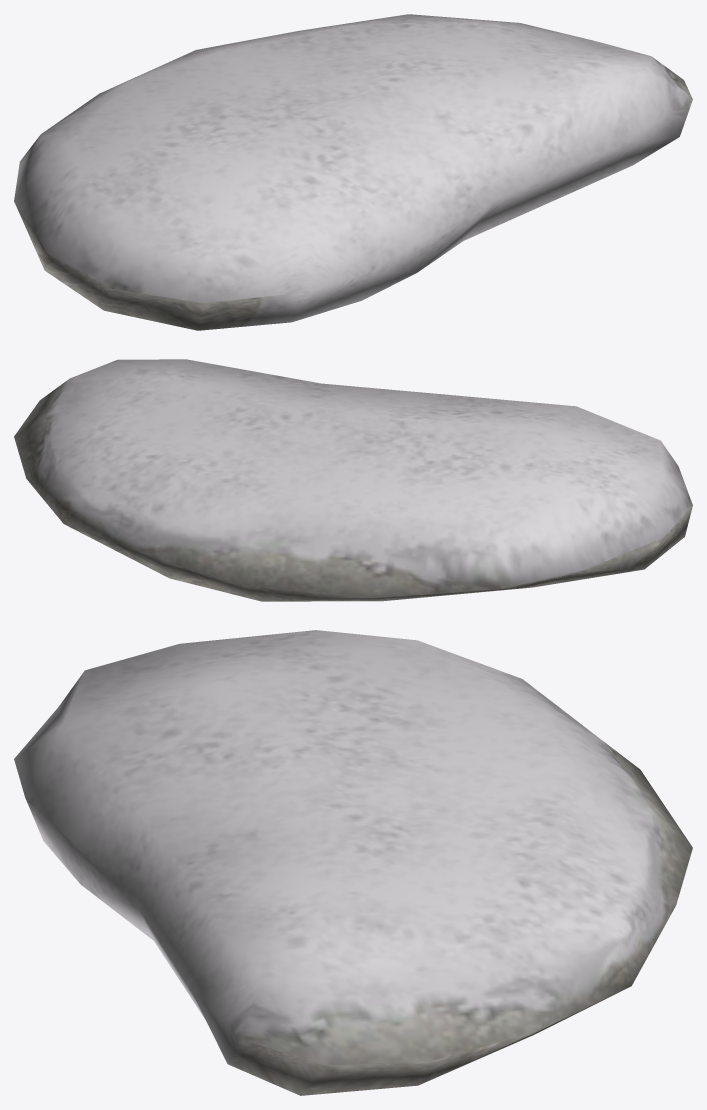
The model's file is general_obj_stone14.glb.
The picture shows the model from 3 angles, top to bottom: view 1: azimuth 30°, elevation 25°; view 2: azimuth 150°, elevation 25°; view 3: azimuth 270°, elevation 25°; orthographic projection. The views are drawn at different scales.
Visible parts, largest first — view 1: Sphere01; view 2: Sphere01; view 3: Sphere01.
Part boxes in pixels (<box>): Sphere01: <box>14,14,692,330</box>; Sphere01: <box>14,359,692,601</box>; Sphere01: <box>14,630,692,1095</box>.
Bounding box in the file's own units: 6.72 × 1.06 × 4.74.
1 material, 1 textured.
